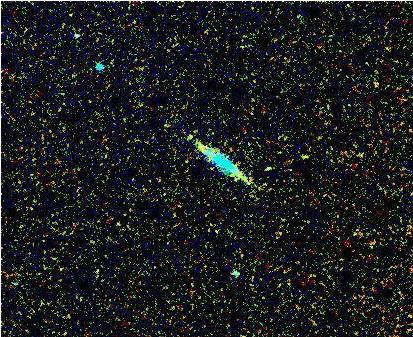star: (174, 120, 204, 150)
